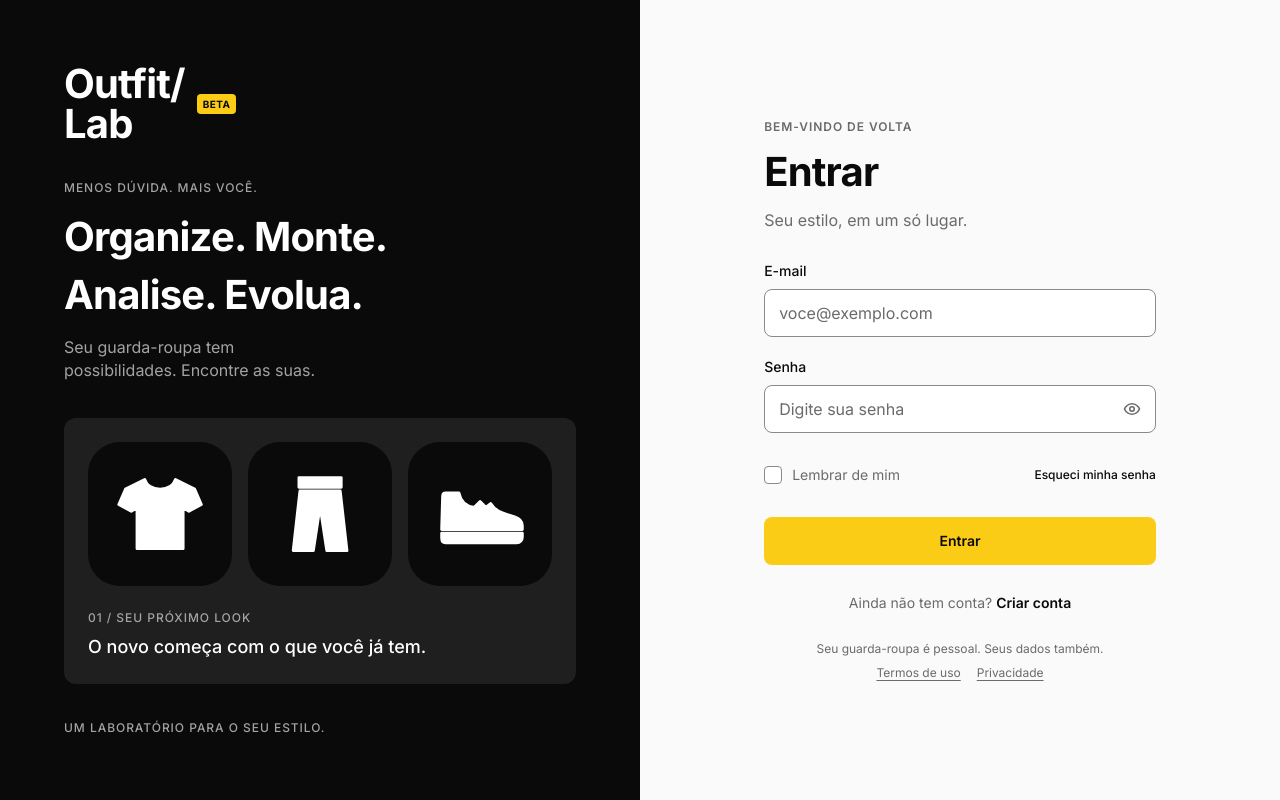
TELA-01 Login › valida no envio e foca o primeiro campo inválido
What coordinates should you click on to do the following:
click the button "Entrar"
I would click on:
 (960, 541)
Its box is [764,517,1156,565].
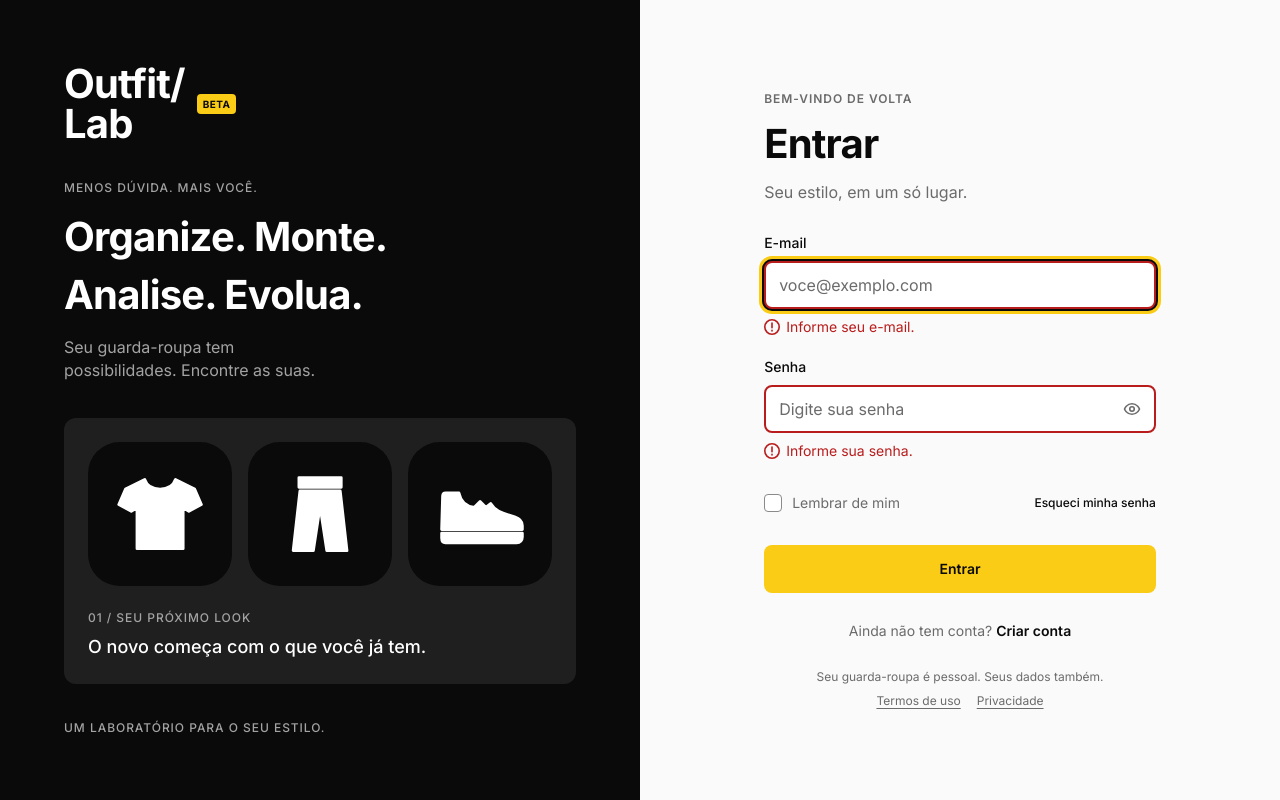
Expected: the text "Informe seu e-mail." is shown, [786,317,915,337]
Expected: the text "Informe sua senha." is shown, [786,441,913,461]
